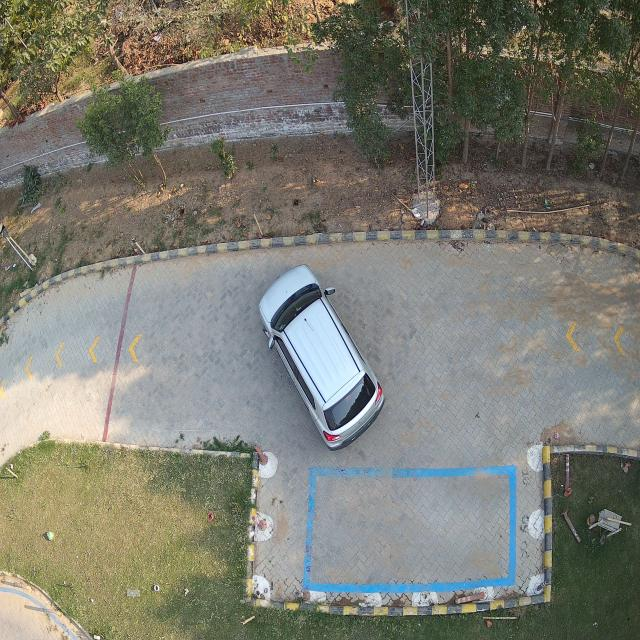car: (257, 266, 382, 448)
